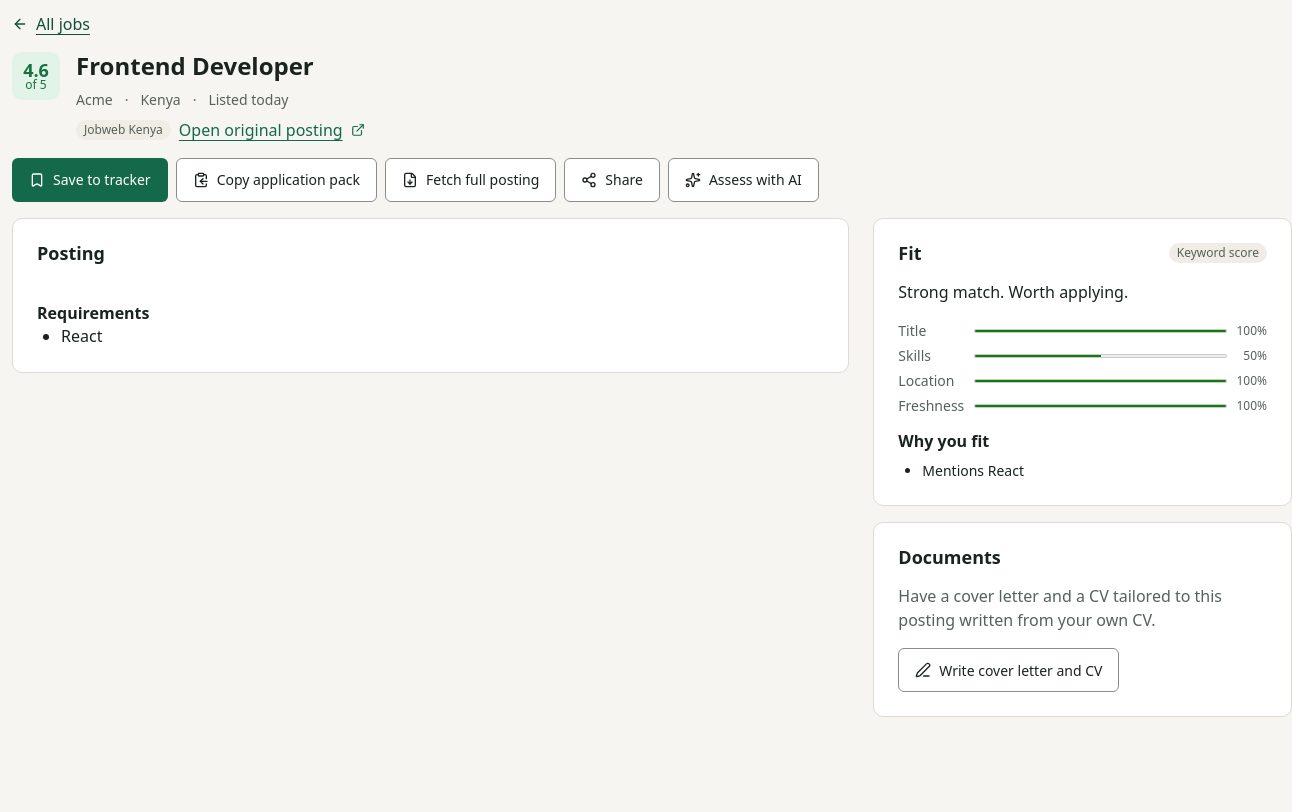
Test: JobDetailPage › has the model write the documents, then offers each to copy or print
The width and height of the screenshot is (1292, 812).
Click the button "Write cover letter and CV". click: (1009, 670)
box: [898,648,1120,692]
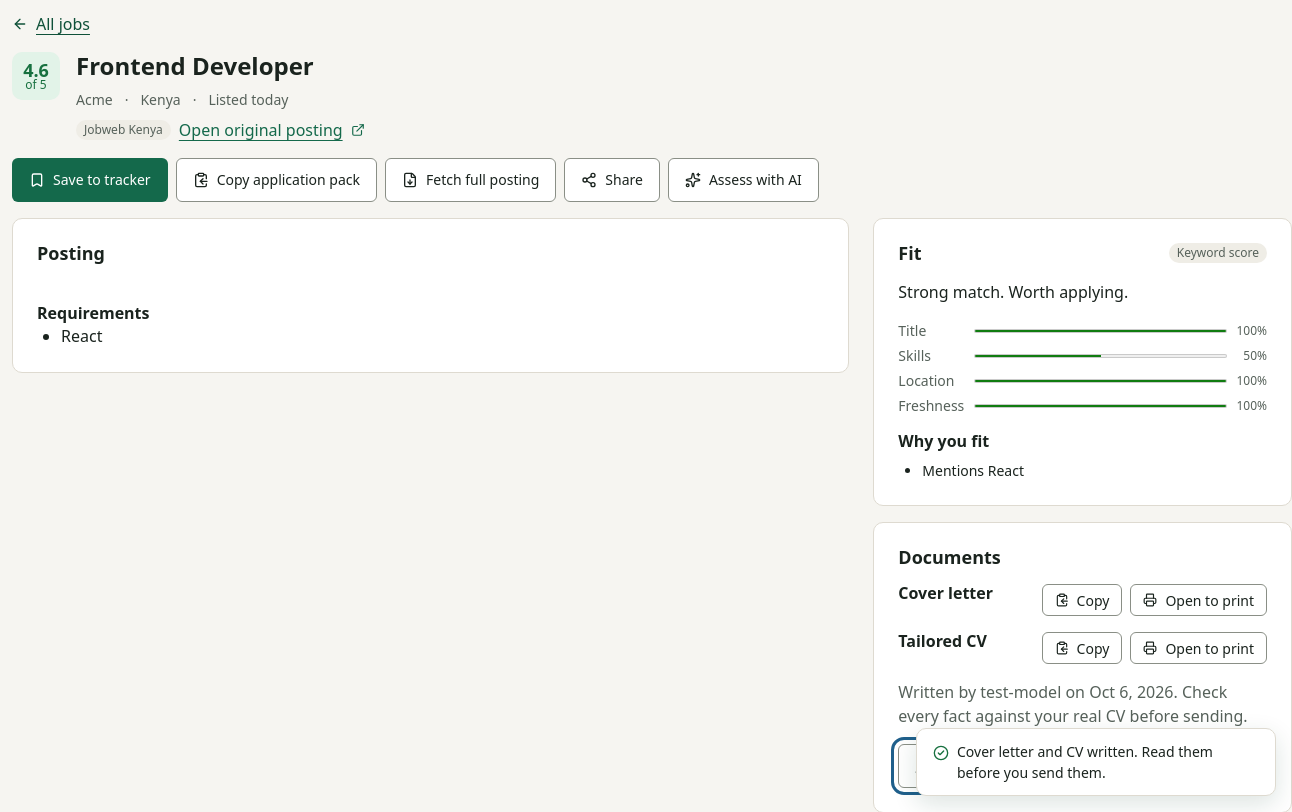
Expected: the heading "Cover letter" is shown, [898,584,993,603]
Expected: the heading "Tailored CV" is shown, [898,632,987,651]
Expected: the text "Written by test-model" is shown, [898,680,1267,728]
